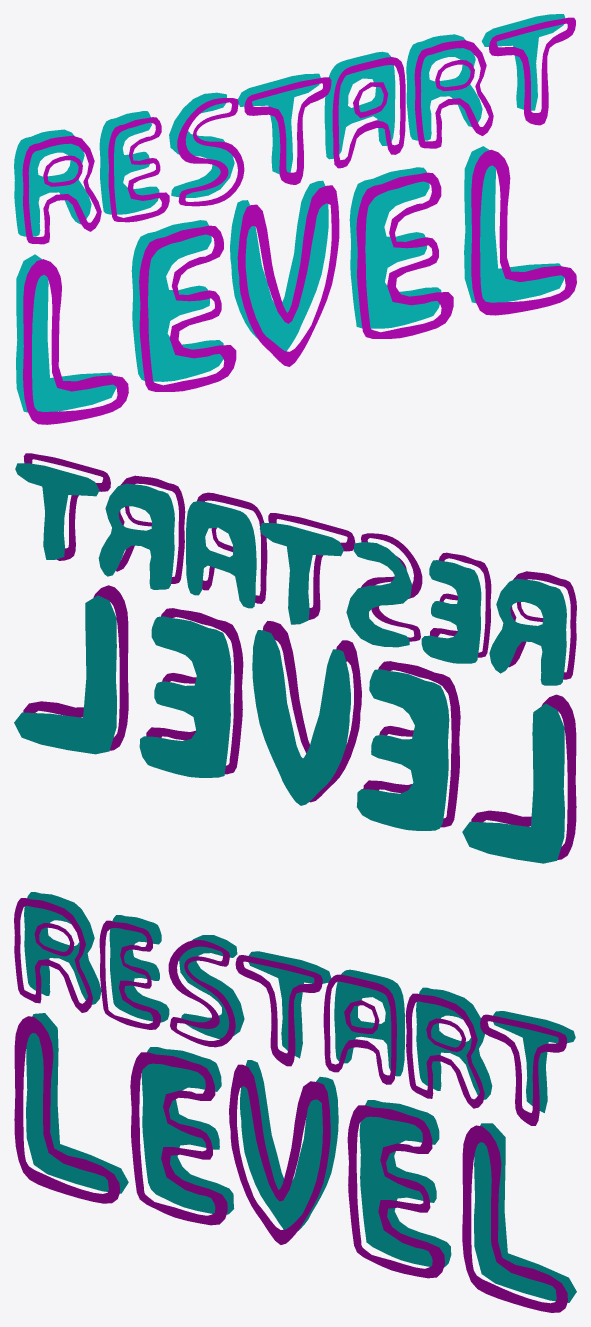
Rendered from mesh_text_restartlevel.fbx.
The picture shows the model from 3 angles, top to bottom: view 1: azimuth 30°, elevation 25°; view 2: azimuth 150°, elevation 25°; view 3: azimuth 330°, elevation 25°; orthographic projection.
Parts seen in each view (by area): view 1: mesh_text_restartlevel, mesh_text_restartlevel1; view 2: mesh_text_restartlevel, mesh_text_restartlevel1; view 3: mesh_text_restartlevel, mesh_text_restartlevel1.
Boxes of the visible parts, left/top/right/bottom form: mesh_text_restartlevel: left=14, top=14, right=565, bottom=412; mesh_text_restartlevel1: left=22, top=17, right=576, bottom=424; mesh_text_restartlevel: left=14, top=463, right=566, bottom=863; mesh_text_restartlevel1: left=23, top=453, right=576, bottom=859; mesh_text_restartlevel: left=24, top=892, right=576, bottom=1302; mesh_text_restartlevel1: left=14, top=898, right=567, bottom=1312.
Size of the model in its own units: 0.0729 by 0.0363 by 0.00212.
